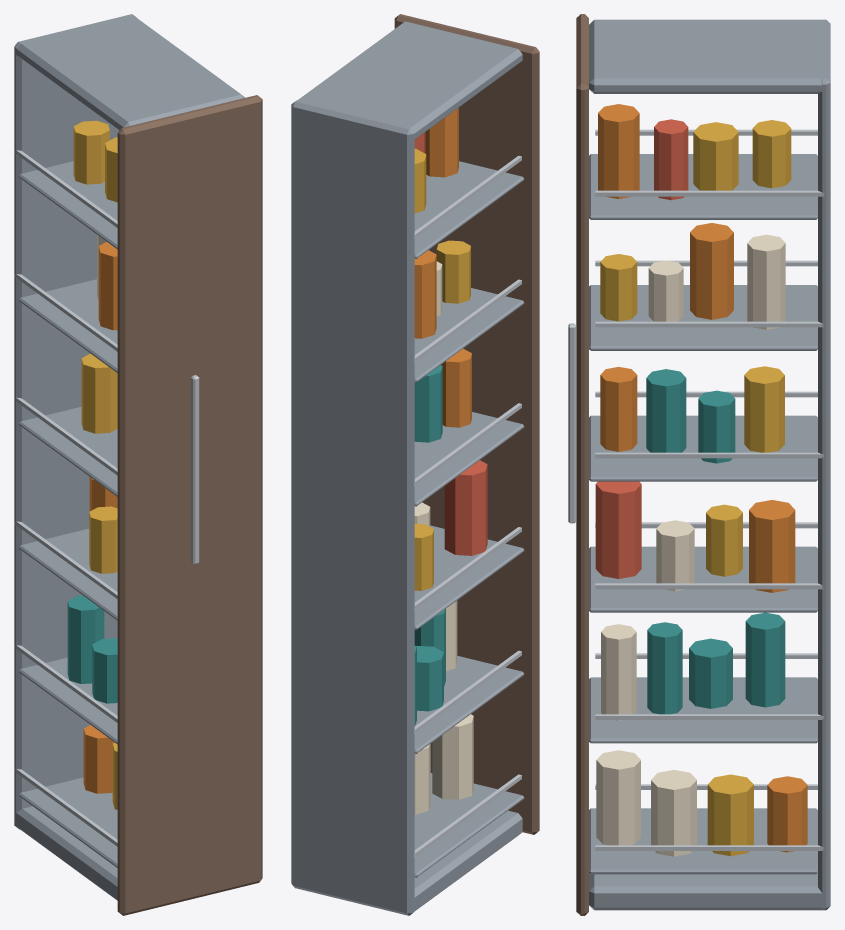
File: pocket_pantry.glb
3 renders of one model, left to right at view 1: azimuth 30°, elevation 25°; view 2: azimuth 150°, elevation 25°; view 3: azimuth 270°, elevation 25°, orthographic. The views are drawn at different scales.
Visible parts, largest first — view 1: pocket_pantry_Body; view 2: pocket_pantry_Body; view 3: pocket_pantry_Body.
Part boxes in pixels (x1,y1,x2,y2): pocket_pantry_Body: (14,14,262,915); pocket_pantry_Body: (291,14,539,915); pocket_pantry_Body: (568,14,830,915).
Bounding box in the file's own units: 0.4 × 2.1 × 0.6.
